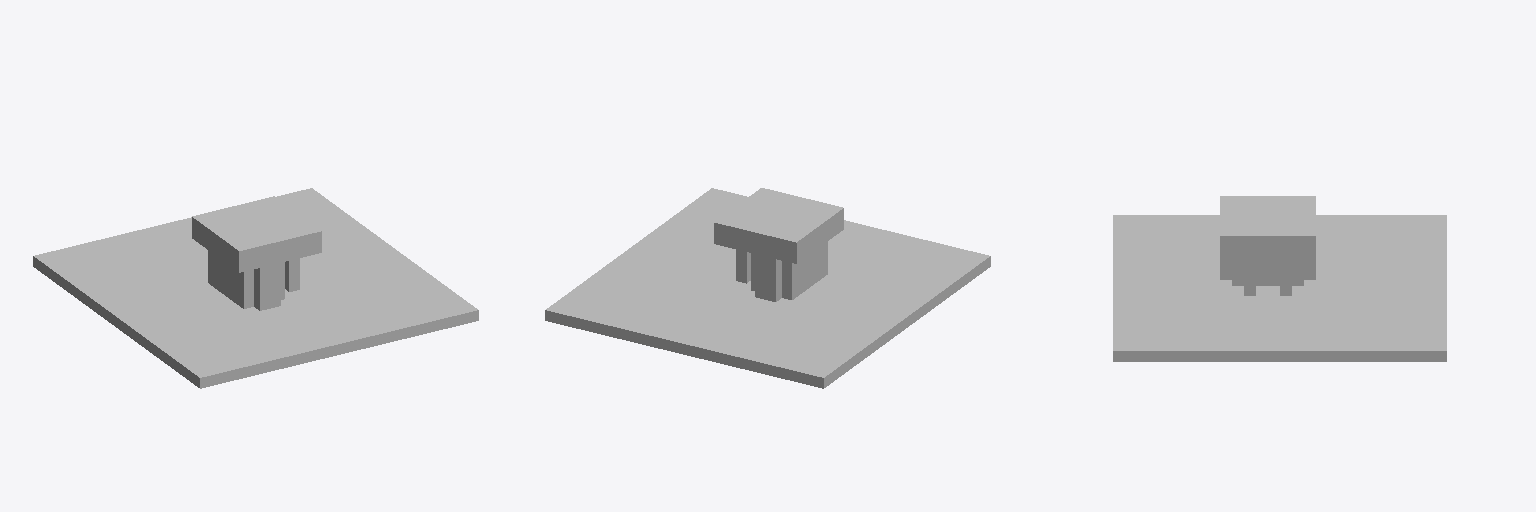
The model's file is shop.obj.
3 views of the same model, side by side, from view 1: azimuth 30°, elevation 25°; view 2: azimuth 150°, elevation 25°; view 3: azimuth 270°, elevation 25° (orthographic).
Parts seen in each view (by area): view 1: object 1; view 2: object 1; view 3: object 1.
Part boxes in pixels (bbox=[...]): object 1: bbox=[33, 188, 478, 388]; object 1: bbox=[545, 188, 990, 388]; object 1: bbox=[1113, 196, 1446, 361].
Bounding box in the file's own units: 2.7 × 0.7 × 2.8.